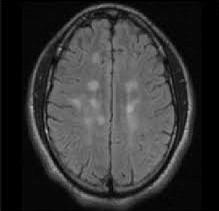Normal_Brain: (7, 1, 219, 211)
